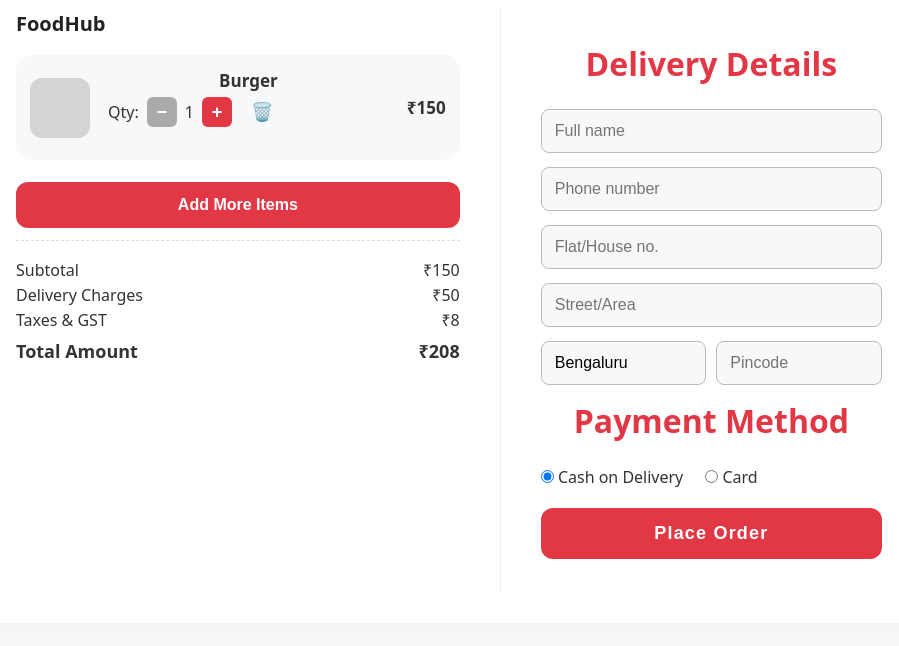
Test case: CheckoutPage UI › validates phone number format
Type "123" into the field with placeholder "Phone number" at (711, 189), box [541,167,882,211]
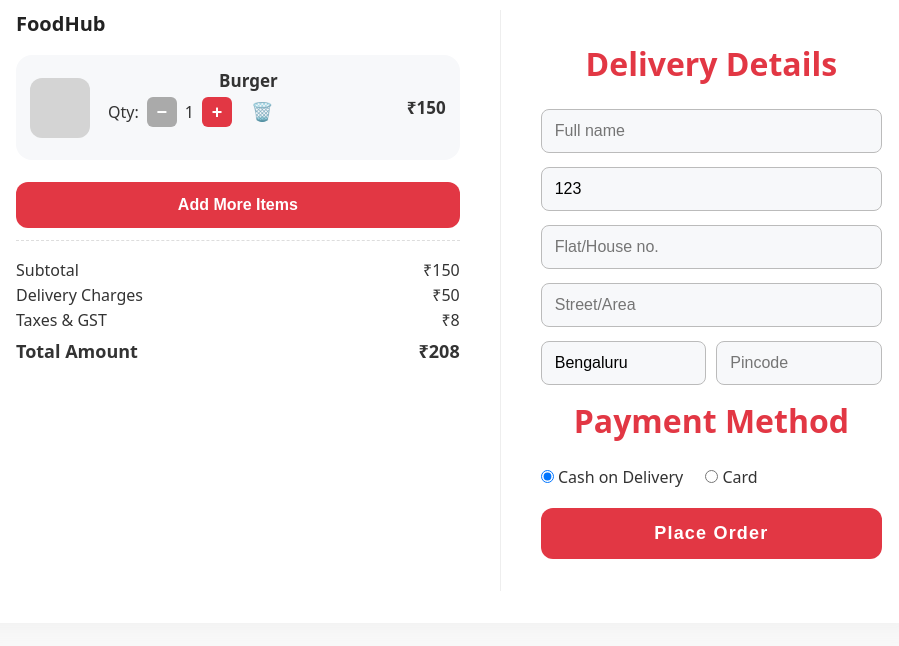
Click the button "Place Order" at (711, 534), box [541,508,882,559]
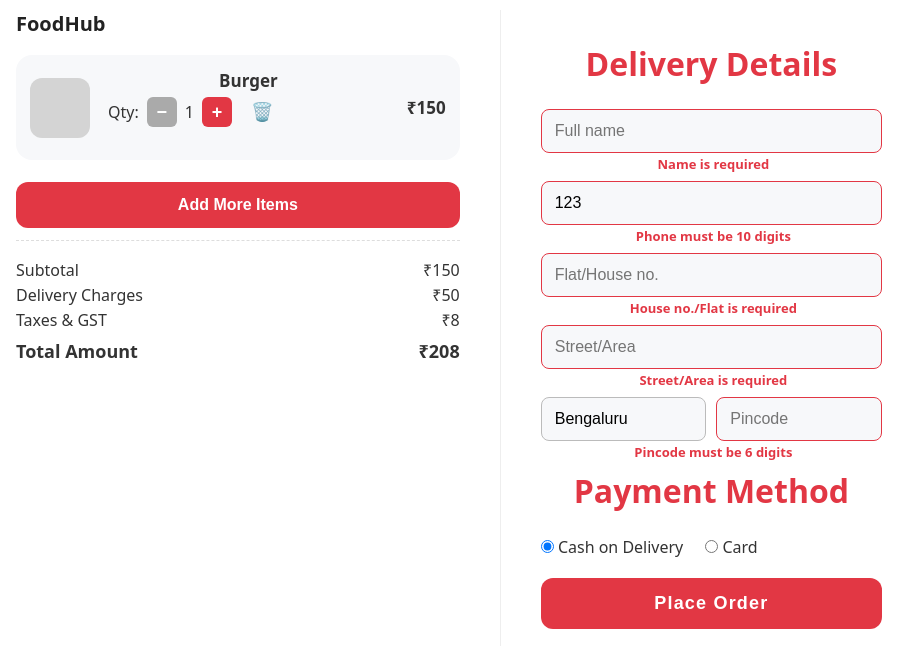
Result: the text "Phone must be 10 digits" is shown at [636,227,791,245]
